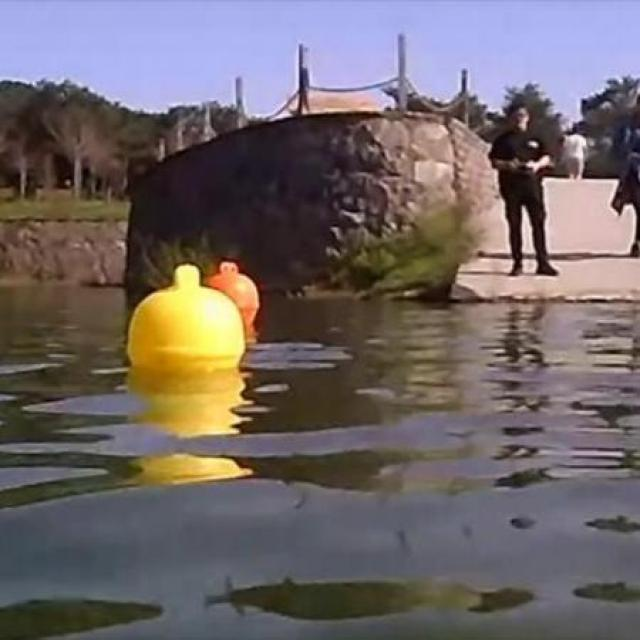buoy: (128, 264, 246, 366), (208, 262, 263, 304)
